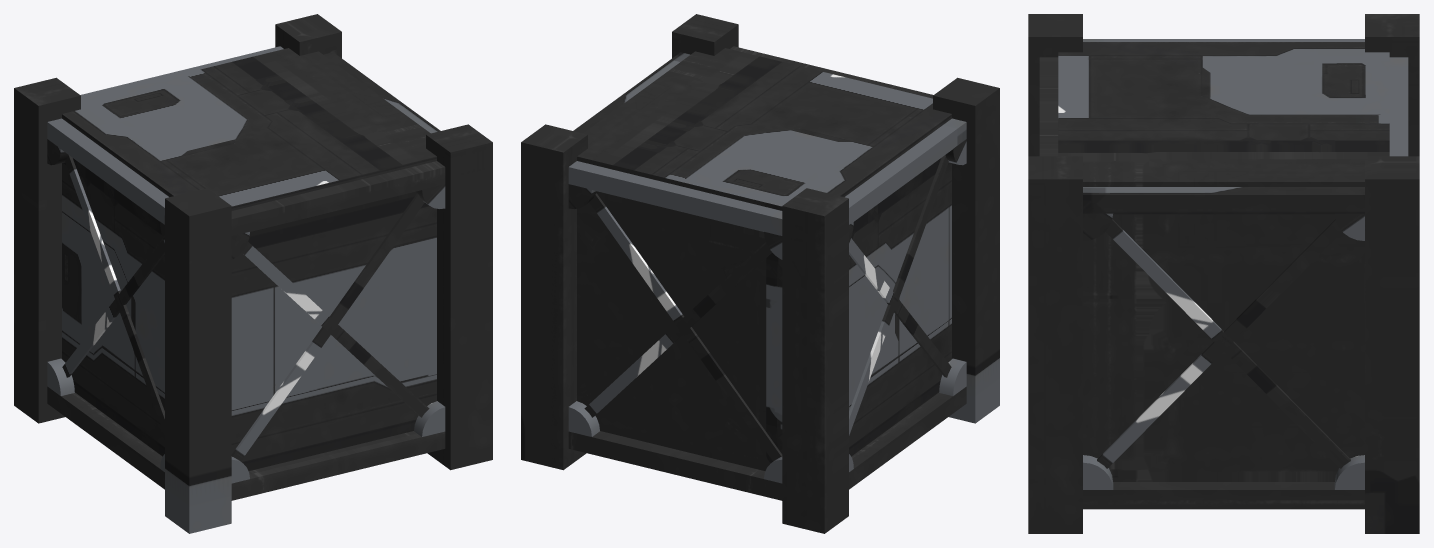
Rendered from Box_2_Dummy.fbx.
3 views of the same model, side by side, from view 1: azimuth 30°, elevation 25°; view 2: azimuth 150°, elevation 25°; view 3: azimuth 270°, elevation 25° (orthographic). The views are drawn at different scales.
Visible parts, largest first — view 1: Box007, Box_2, Cylinder002; view 2: Box007, Box_2, Cylinder002; view 3: Box007, Box_2, Cylinder002.
Boxes of the visible parts, <box> form: Box007: <box>62,48,436,470</box>; Box_2: <box>14,14,492,533</box>; Cylinder002: <box>47,139,445,483</box>; Box007: <box>577,48,951,470</box>; Box_2: <box>521,14,999,533</box>; Cylinder002: <box>568,139,966,483</box>; Box007: <box>1058,42,1389,481</box>; Box_2: <box>1028,14,1419,533</box>; Cylinder002: <box>1083,213,1364,489</box>.
Size of the model in its own units: 130 by 130 by 130.
